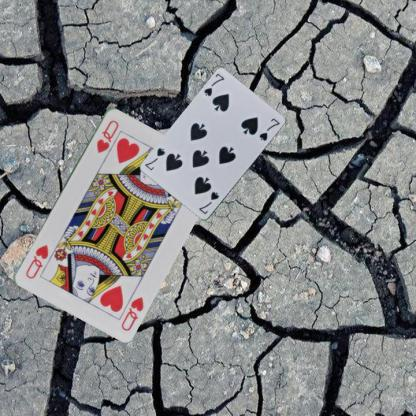7s: (201, 71, 225, 98), (196, 190, 220, 216)
Qh: (118, 294, 145, 332), (94, 117, 120, 154)
